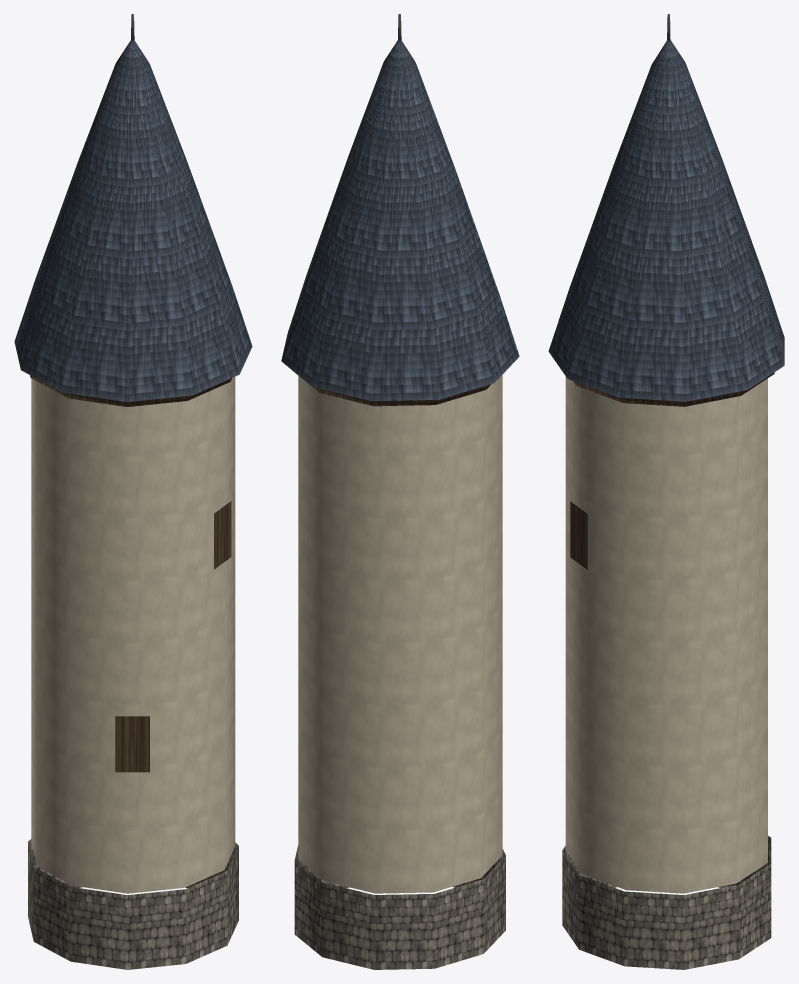
The model's file is Turret_Corner_1_LOD1.gltf.
The picture shows the model from 3 angles, left to right: view 1: azimuth 30°, elevation 25°; view 2: azimuth 150°, elevation 25°; view 3: azimuth 270°, elevation 25°; orthographic projection.
Parts seen in each view (by area): view 1: Turret_Corner_1_LOD1; view 2: Turret_Corner_1_LOD1; view 3: Turret_Corner_1_LOD1.
Part boxes in pixels (x1=…): Turret_Corner_1_LOD1: x1=14, y1=14, x2=252, y2=969; Turret_Corner_1_LOD1: x1=281, y1=14, x2=519, y2=969; Turret_Corner_1_LOD1: x1=548, y1=14, x2=784, y2=969.
Bounding box in the file's own units: 3.46 × 14.6 × 3.43.
5 materials, 5 textured.
